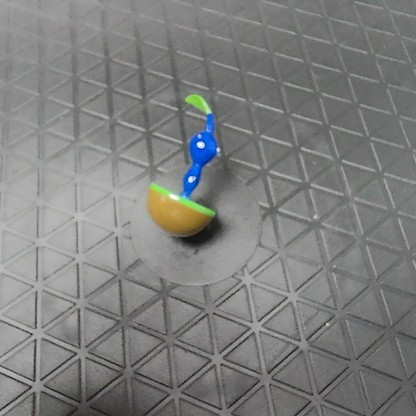leafairy: (143, 86, 225, 239)
